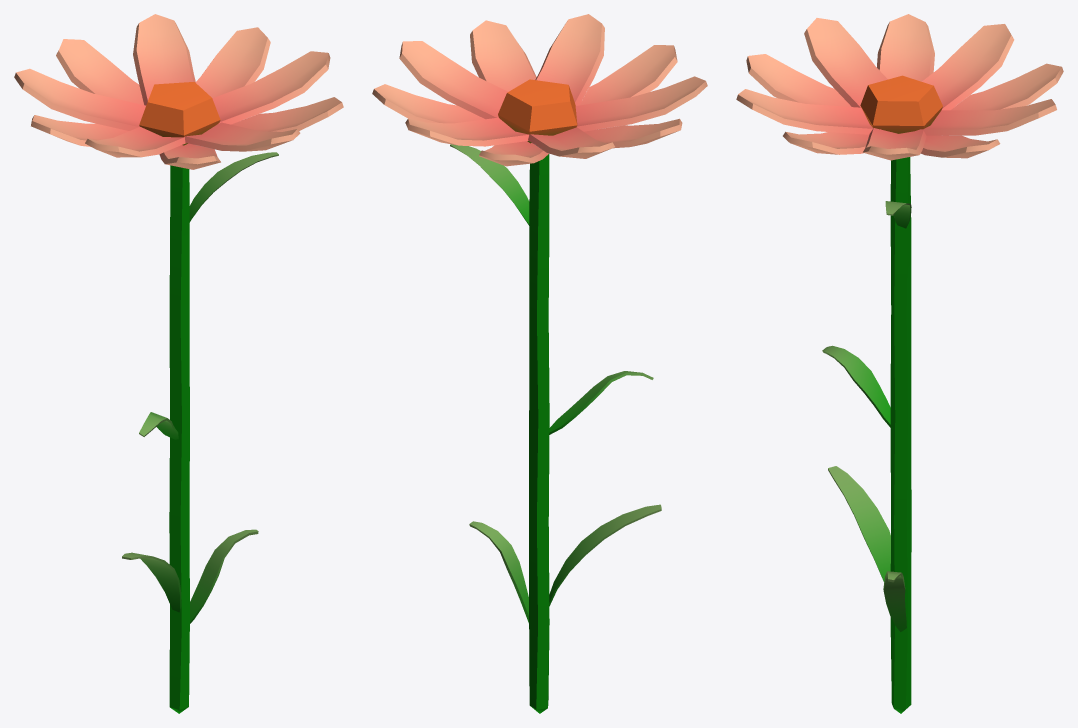
File: aster_test01.fbx
3 views of the same model, side by side, from view 1: azimuth 30°, elevation 25°; view 2: azimuth 150°, elevation 25°; view 3: azimuth 270°, elevation 25° (orthographic).
Visible parts, largest first — view 1: pCube83; view 2: pCube83; view 3: pCube83.
Part boxes in pixels (left/top/right/bottom): pCube83: left=14, top=14, right=343, bottom=713; pCube83: left=372, top=14, right=707, bottom=713; pCube83: left=736, top=14, right=1063, bottom=713.
Size of the model in its own units: 154 by 320 by 150.
1 material, 1 textured.
